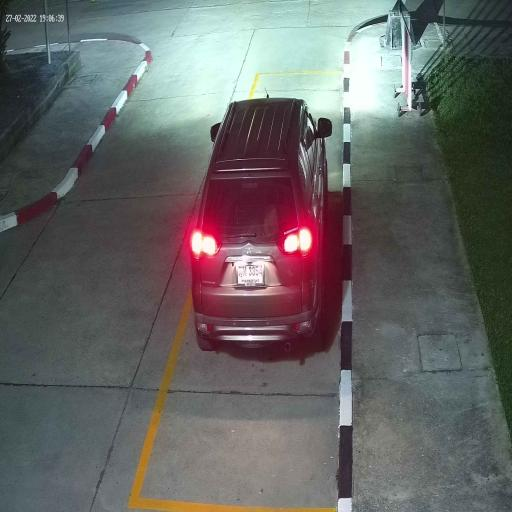car: (191, 98, 328, 354)
